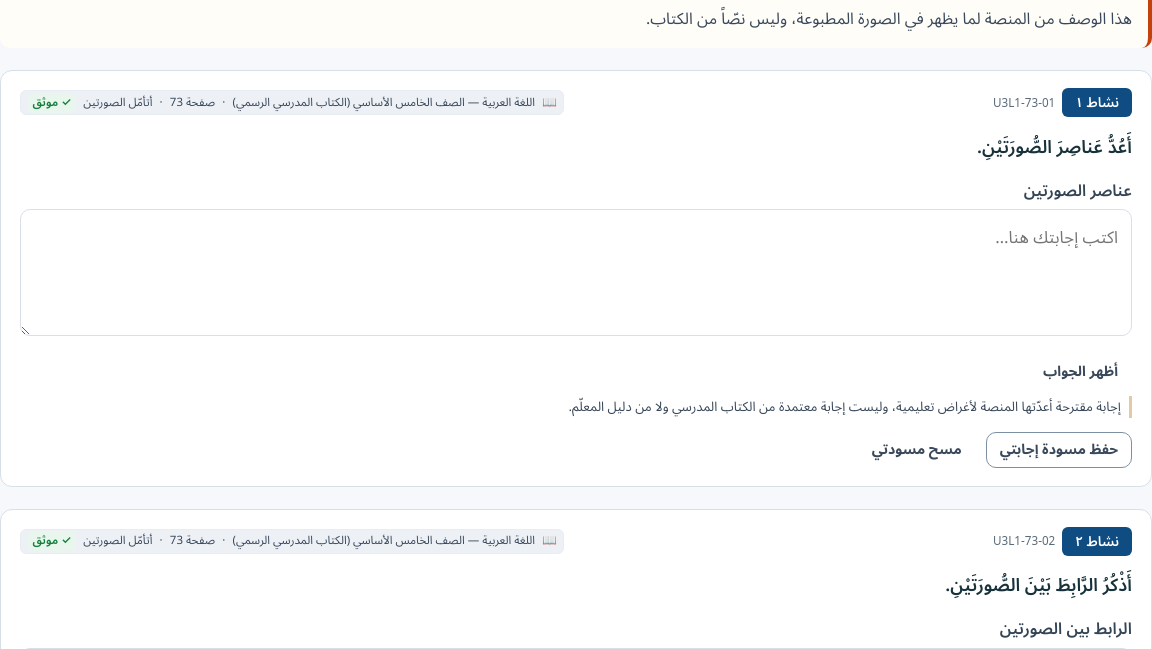
Test: U3L1 — the student sees the button and the answer › does not leak an answer when the learner switches steps (state is not shared)
(page scrolled)
What coordinates should you click on to do the following:
click the button "أظهر الجواب"
I would click on:
 (1080, 372)
Its box is [1029, 354, 1132, 390].
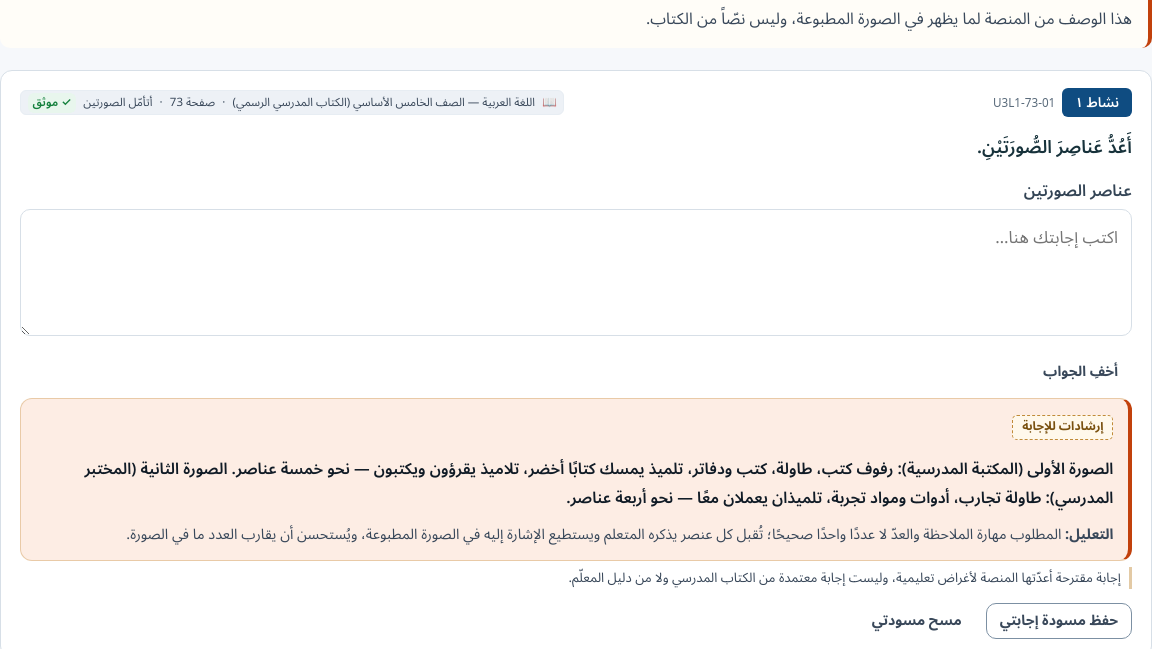
Expected: the text "الصورة الأولى (المكتبة المدرسية): رفوف كتب، طاولة، كتب ودفاتر، تلميذ يمسك كتابًا أخضر، تلاميذ يقرؤون ويكتبون — نحو خمسة " is shown, [84, 452, 1113, 515]
